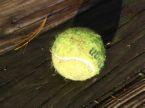tennis ball: (49, 24, 109, 82)
